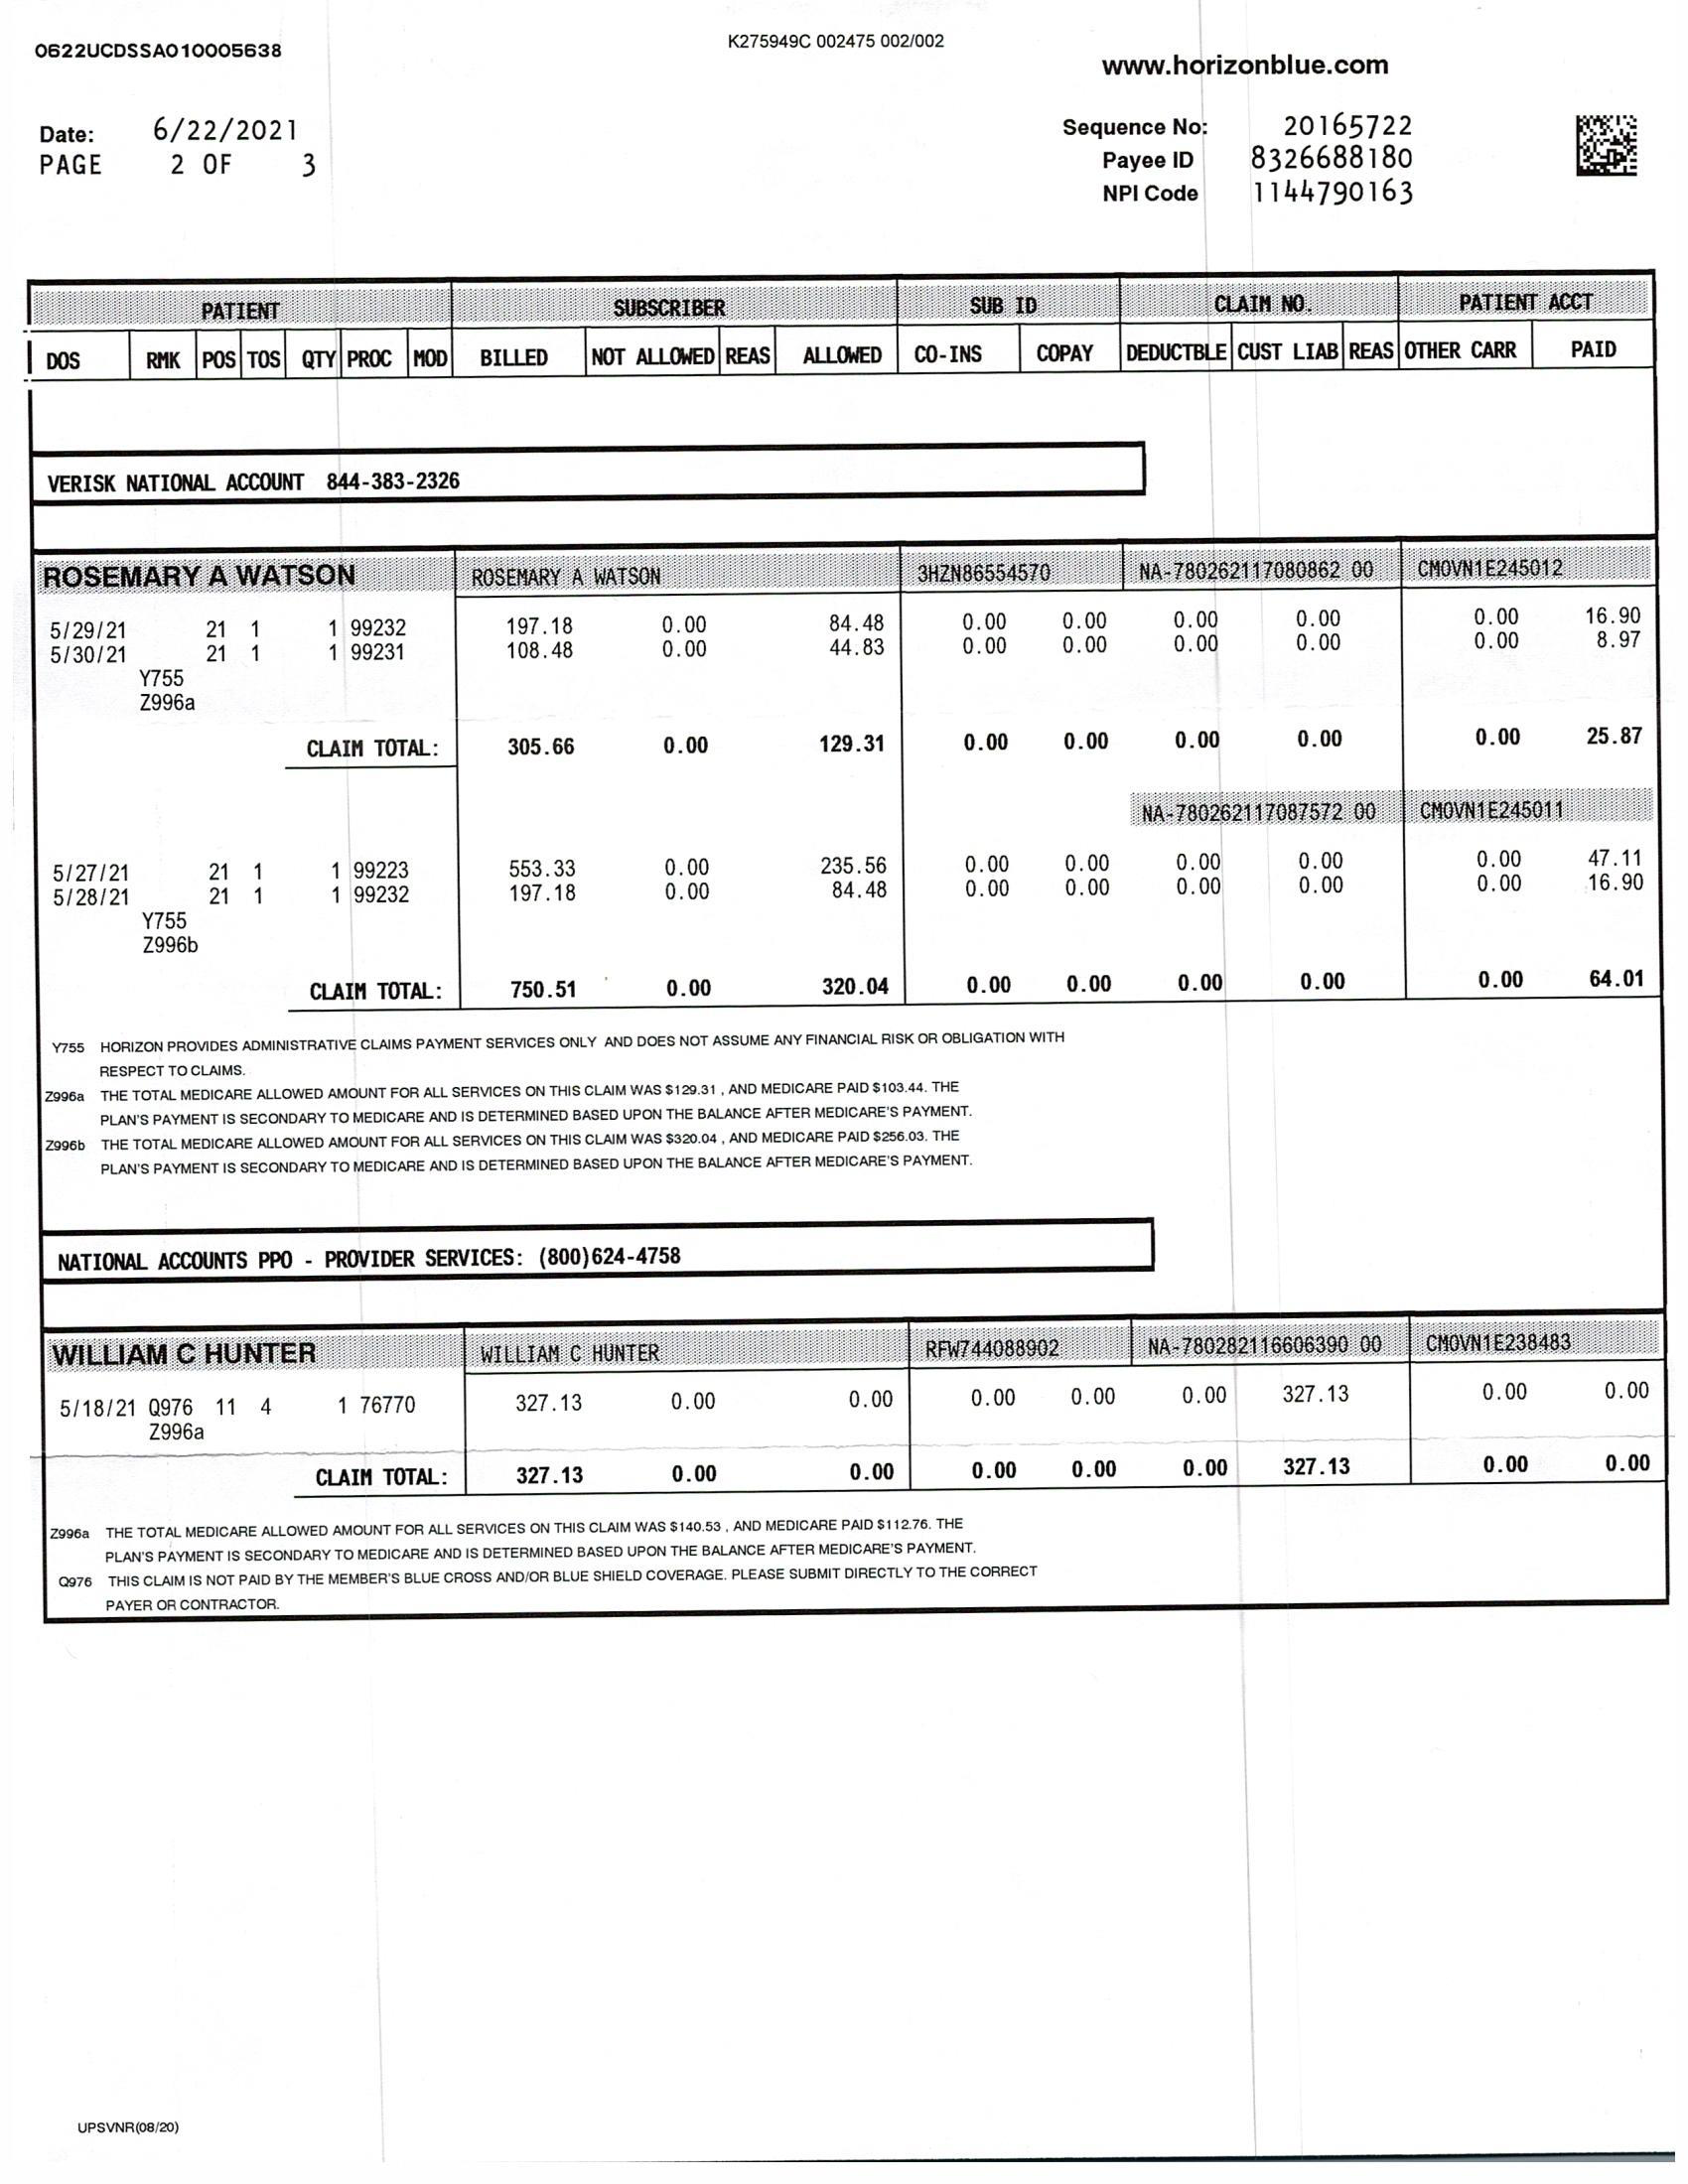table: (21, 253, 1676, 1026), (28, 1294, 1679, 1494)
